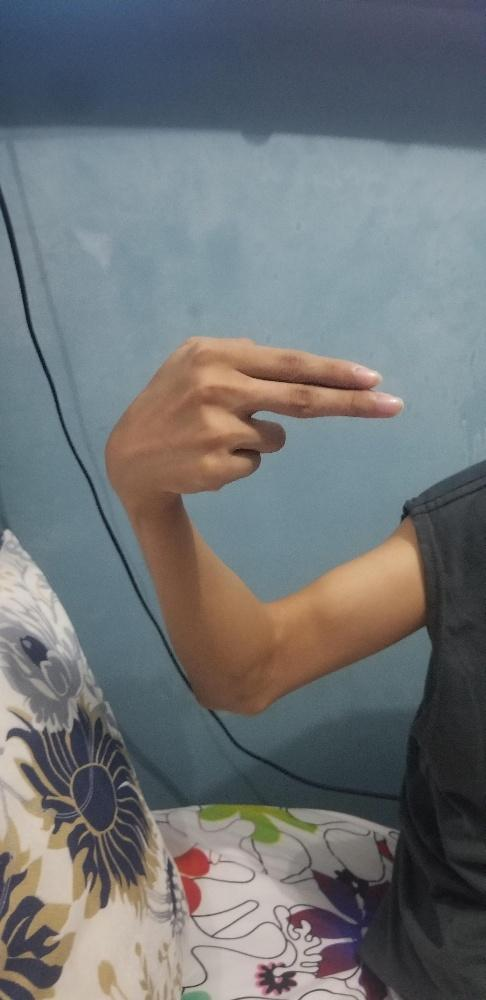h: (101, 331, 407, 499)
